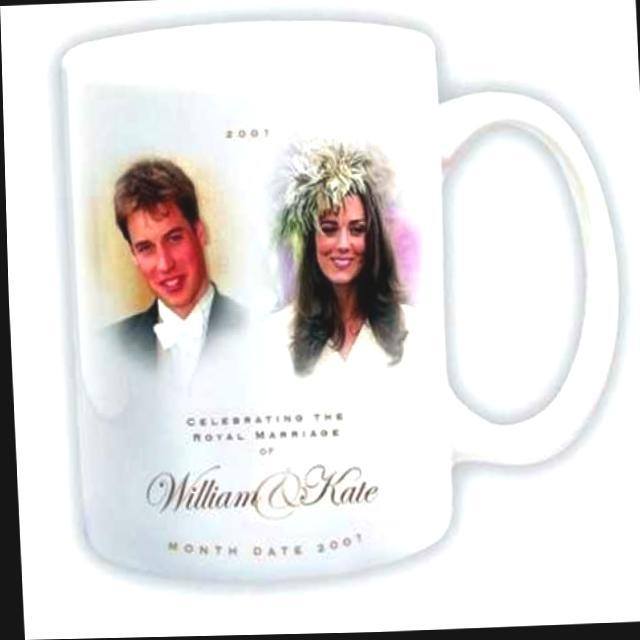cup: (53, 4, 632, 594)
